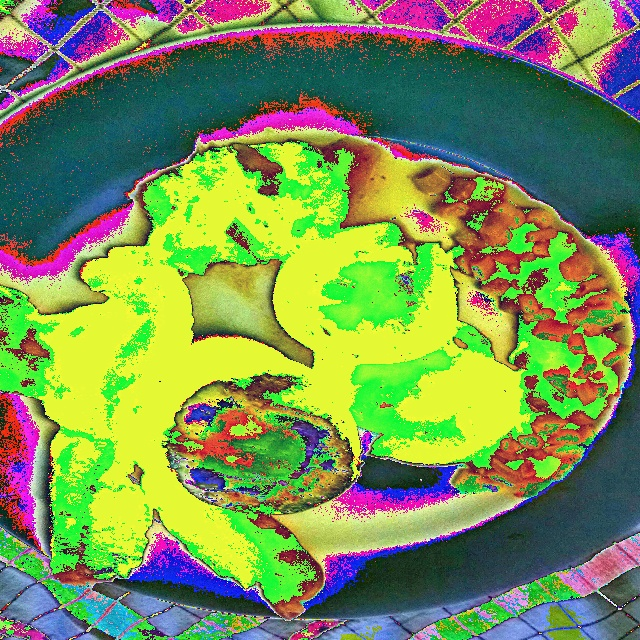background: (0, 166, 632, 622)
